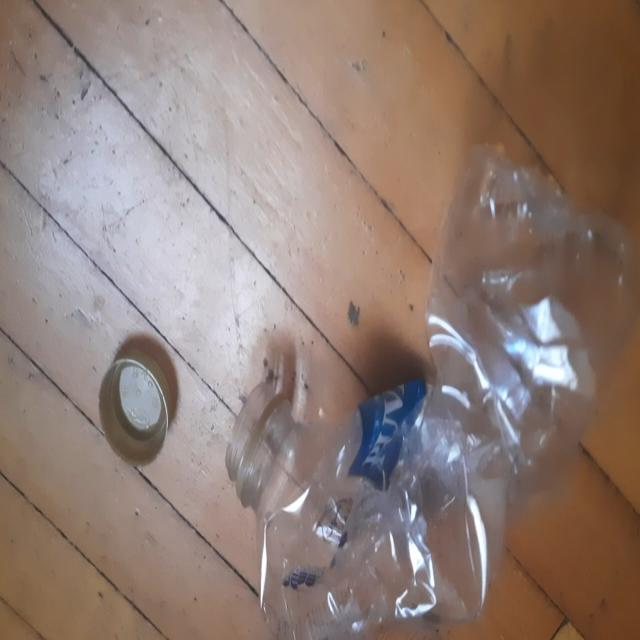Plastic: (234, 142, 636, 638)
